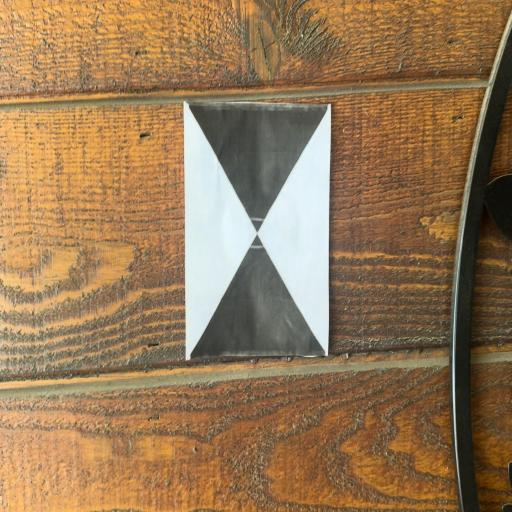target: (184, 102, 331, 359)
